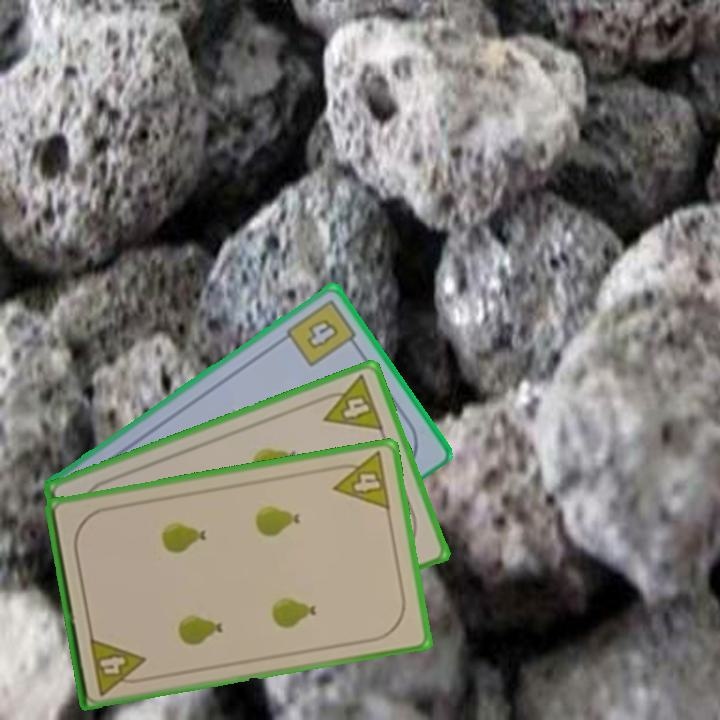4b: (282, 295, 363, 370)
4p: (313, 371, 387, 434), (327, 448, 393, 513), (86, 633, 150, 698)
